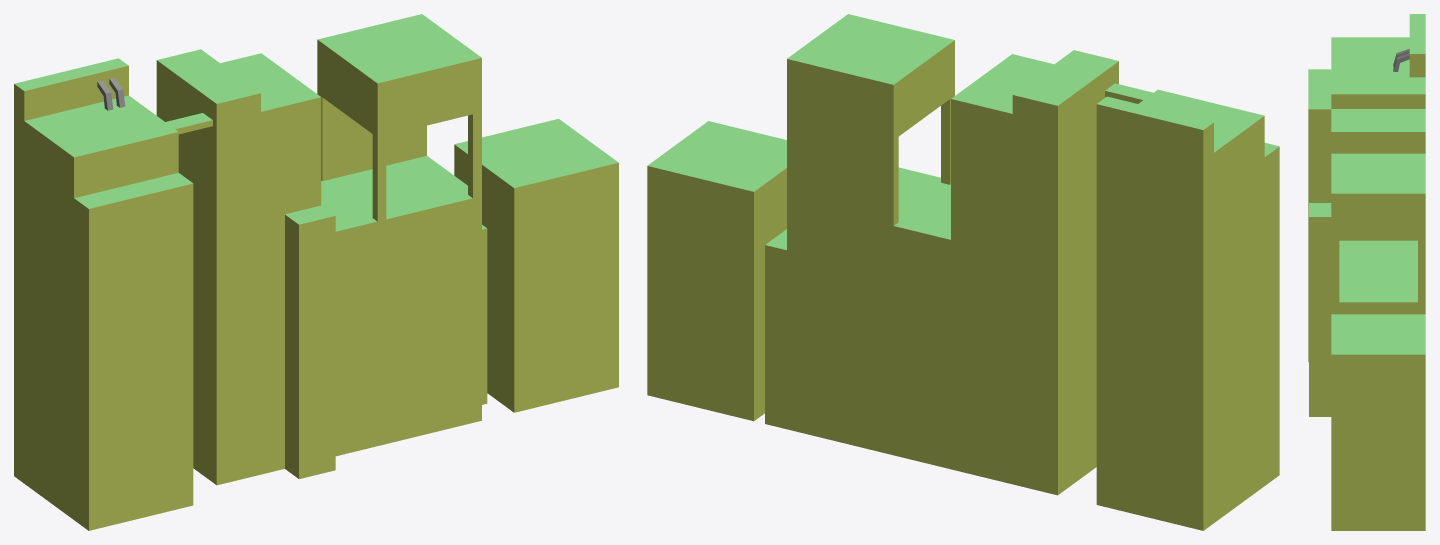
Rendered from GameProject2018TestMap1.fbx.
3 views of the same model, side by side, from view 1: azimuth 30°, elevation 25°; view 2: azimuth 150°, elevation 25°; view 3: azimuth 270°, elevation 25° (orthographic). The views are drawn at different scales.
Parts seen in each view (by area): view 1: Cube.001, Cube.005, Cube.004, Cube.006; view 2: Cube.001, Cube.005, Cube.004, Cube.006; view 3: Cube.006, Cube.005, Cube.004, Cube.001, Cube.002.
Boxes of the visible parts, <box> form: Cube.001: <box>14,58,193,530</box>; Cube.005: <box>317,14,487,456</box>; Cube.004: <box>156,49,335,485</box>; Cube.006: <box>454,119,618,412</box>; Cube.001: <box>1096,89,1279,530</box>; Cube.005: <box>765,14,954,469</box>; Cube.004: <box>951,50,1118,495</box>; Cube.006: <box>647,121,786,421</box>; Cube.006: <box>1331,314,1425,530</box>; Cube.005: <box>1331,153,1425,314</box>; Cube.004: <box>1309,77,1425,416</box>; Cube.001: <box>1308,14,1425,362</box>; Cube.002: <box>1393,48,1409,71</box>.
Bounding box in the file's own units: 3143 × 2164 × 747.
